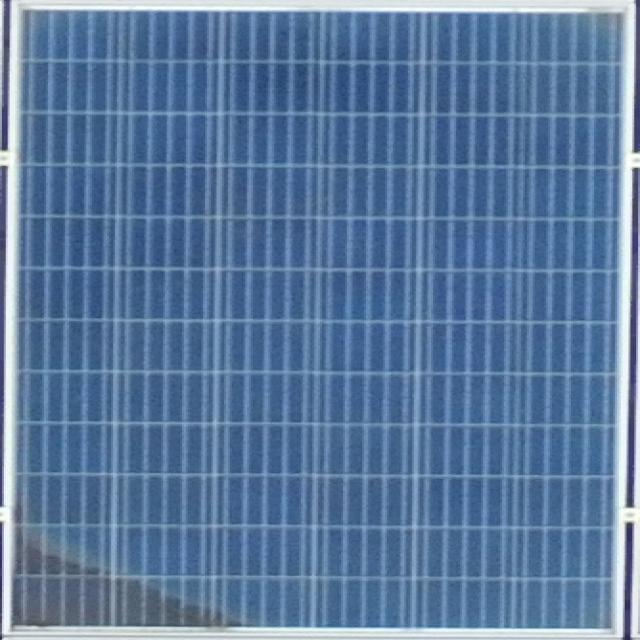Dust: (14, 508, 256, 635)
